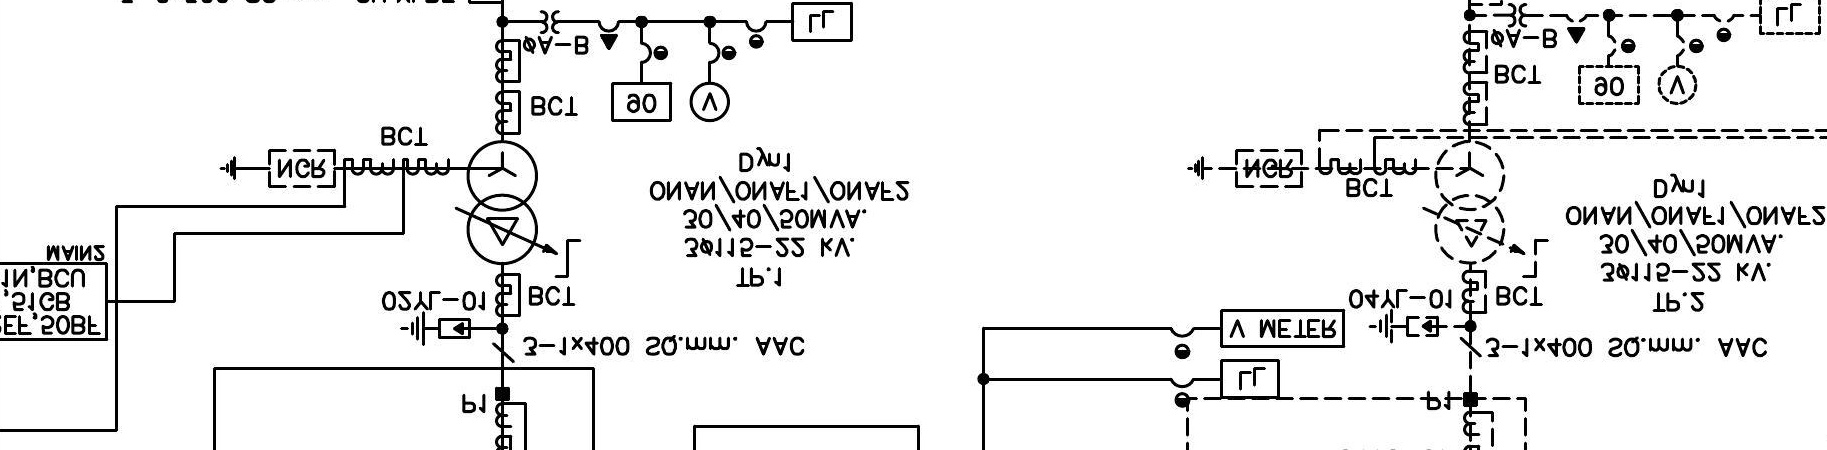11522_tx_dyn1: (466, 139, 539, 266)
115_la: (398, 310, 472, 347)
LL: (790, 1, 854, 43), (1219, 358, 1281, 400)
NGR_future: (219, 148, 337, 189)
v_m: (689, 82, 731, 124)
v_m_digital: (1219, 308, 1346, 349)
